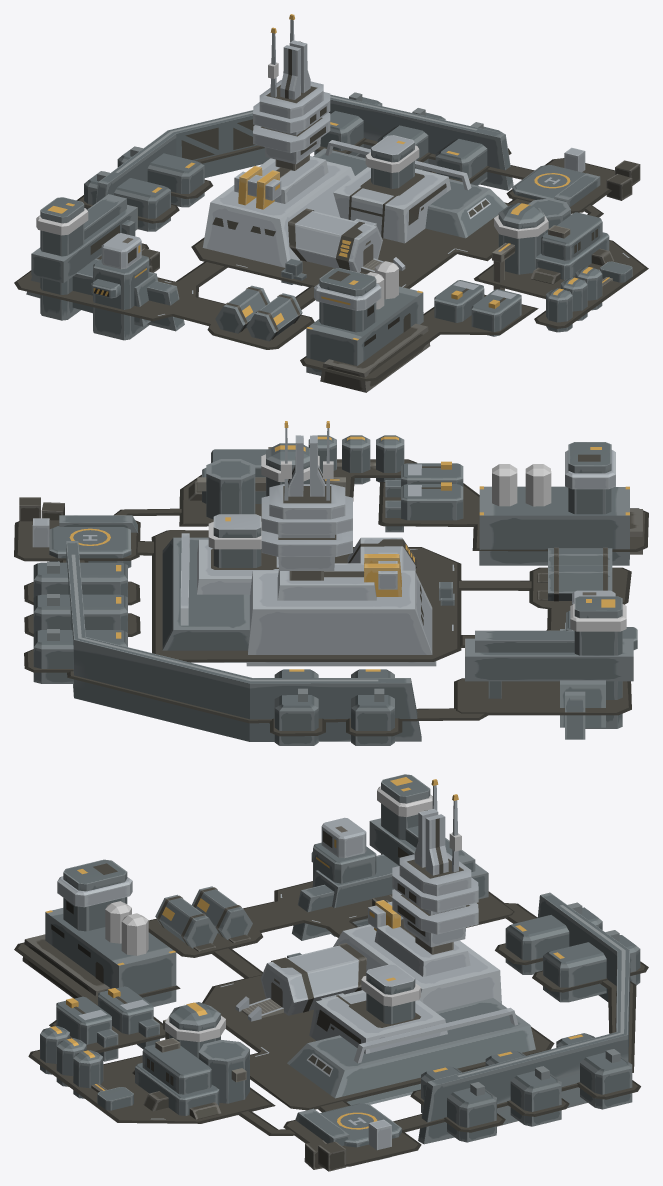
File: playercity1.FBX
The picture shows the model from 3 angles, top to bottom: view 1: azimuth 30°, elevation 25°; view 2: azimuth 150°, elevation 25°; view 3: azimuth 270°, elevation 25°; orthographic projection. The views are drawn at different scales.
Parts seen in each view (by area): view 1: playercity_lv1, f, g, d, a; view 2: playercity_lv1, e, d, f, g; view 3: playercity_lv1, d, e, g, f, a.
Part boxes in pixels (box(x1,y1,x2,y2)): playercity_lv1: box(14, 14, 648, 392); f: box(36, 208, 88, 235); g: box(365, 145, 419, 172); d: box(375, 261, 398, 299); a: box(494, 213, 548, 238); playercity_lv1: box(14, 421, 648, 745); e: box(525, 464, 551, 506); d: box(492, 464, 517, 506); f: box(570, 604, 626, 631); g: box(208, 522, 261, 549); playercity_lv1: box(14, 774, 648, 1171); d: box(121, 913, 148, 955); e: box(105, 901, 131, 943); g: box(361, 976, 420, 1006); f: box(377, 786, 432, 816); a: box(165, 1013, 225, 1042).
Bounding box in the file's own units: 482 × 409 × 177.
